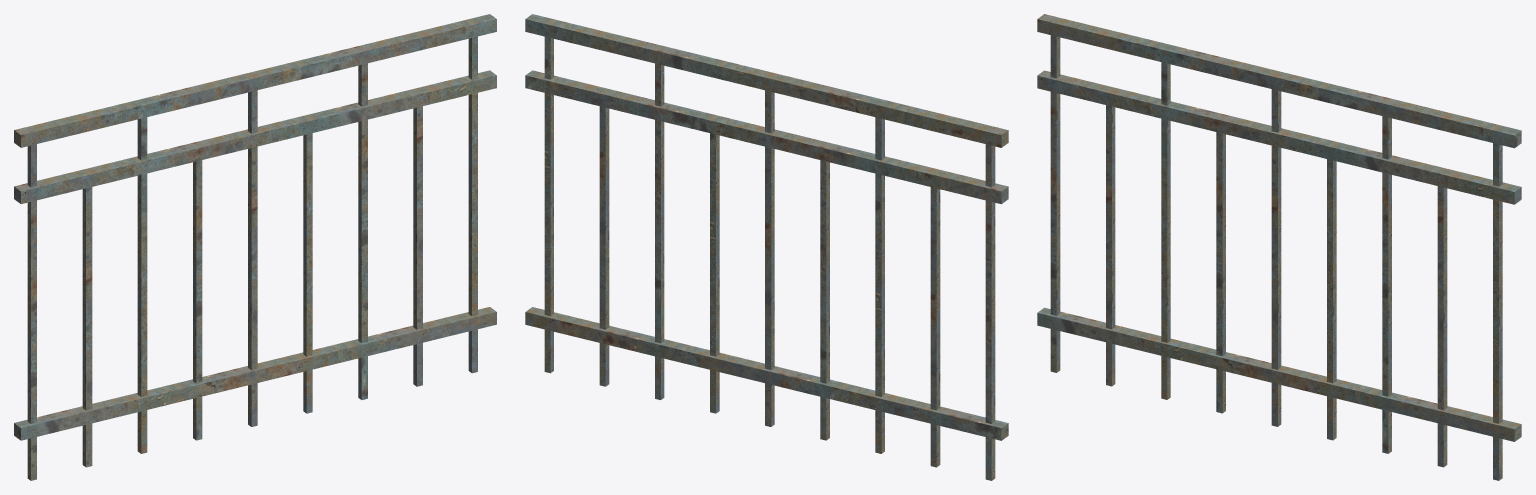
The model's file is fence13.FBX.
The picture shows the model from 3 angles, left to right: view 1: azimuth 30°, elevation 25°; view 2: azimuth 150°, elevation 25°; view 3: azimuth 330°, elevation 25°; orthographic projection.
Visible parts, largest first — view 1: metal_fence_small_mid_rail; view 2: metal_fence_small_mid_rail; view 3: metal_fence_small_mid_rail.
Part boxes in pixels (x1,y1,x2,y2): metal_fence_small_mid_rail: (14,14,496,480); metal_fence_small_mid_rail: (525,14,1008,480); metal_fence_small_mid_rail: (1037,14,1521,480).
Size of the model in its own units: 247 by 173 by 6.31.
